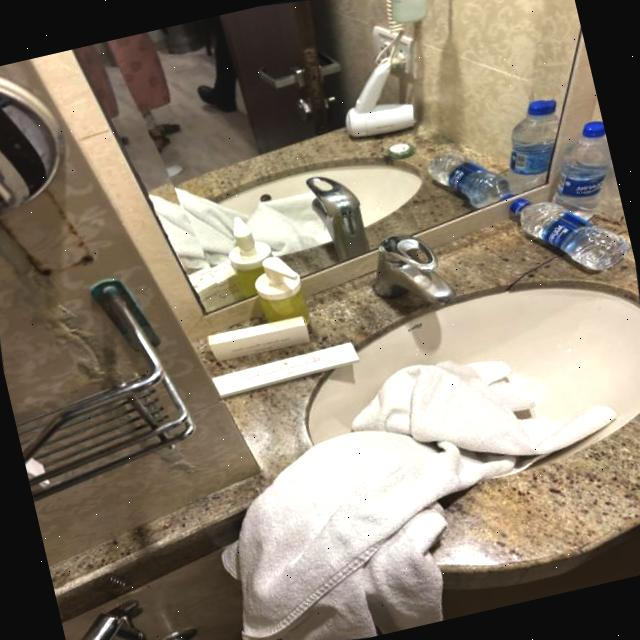Disorganized_pillow: (217, 360, 625, 640)
mess: (190, 207, 640, 432)
messy_sink: (207, 179, 640, 640)
